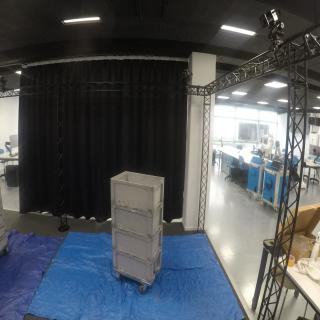Box4G: (110, 171, 168, 215), (111, 224, 167, 265), (109, 202, 166, 240), (113, 250, 164, 287)
